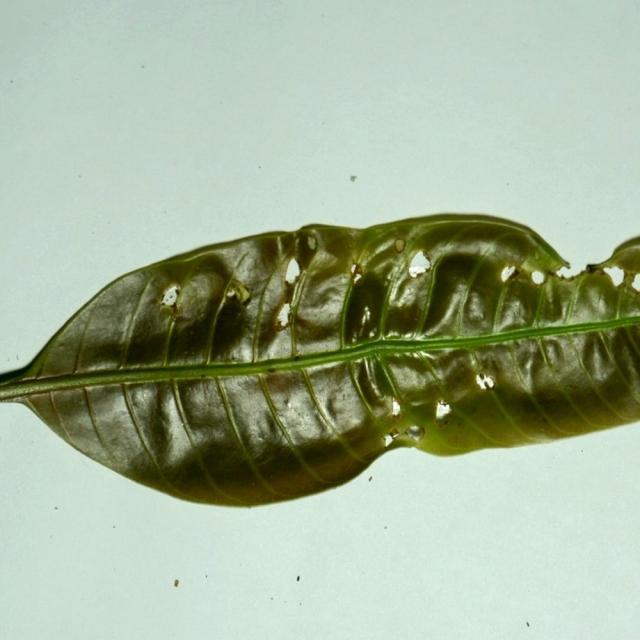Anthracnose: (273, 278, 302, 334), (222, 278, 252, 308), (409, 249, 433, 284), (158, 284, 181, 316), (286, 258, 304, 284), (501, 265, 522, 283), (435, 408, 453, 429), (593, 270, 614, 287), (557, 270, 582, 284), (620, 270, 638, 288), (539, 270, 559, 286), (350, 262, 364, 284), (476, 374, 494, 390), (407, 426, 425, 441), (610, 266, 626, 281), (530, 270, 546, 284), (554, 265, 571, 278), (361, 307, 371, 328), (383, 432, 396, 447), (394, 238, 406, 254), (306, 235, 318, 251), (585, 263, 602, 274), (391, 410, 402, 425), (392, 397, 402, 409), (368, 326, 377, 339), (284, 401, 294, 411), (437, 398, 446, 409), (389, 430, 400, 439), (381, 435, 388, 443), (267, 367, 276, 373)
Mango: (0, 214, 639, 511)
